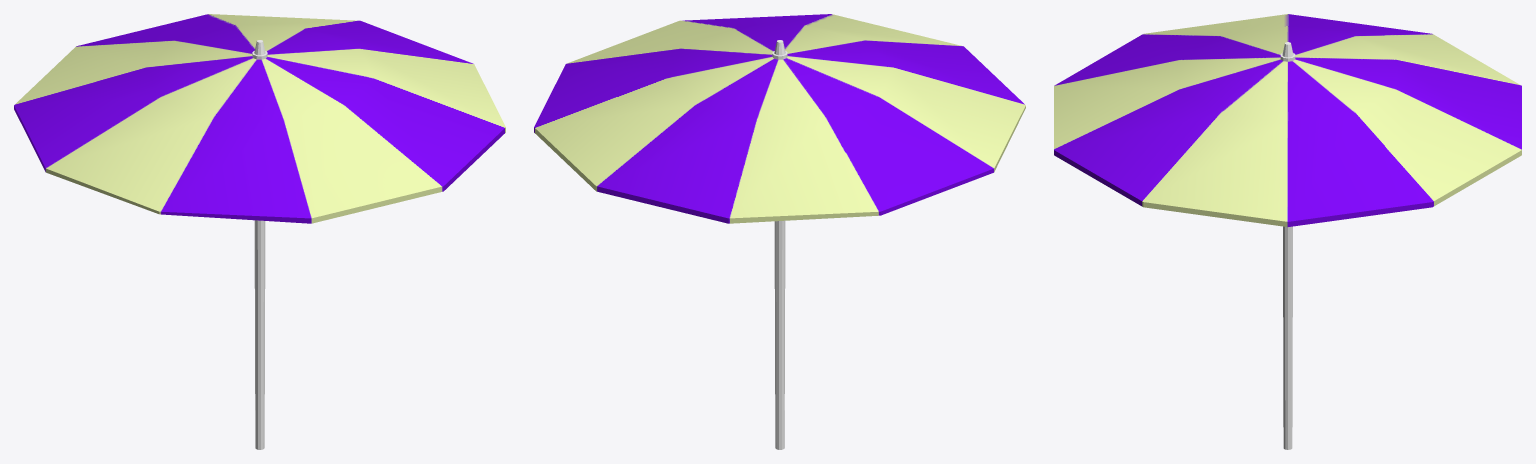
Rendered from Umbrella.fbx.
The picture shows the model from 3 angles, left to right: view 1: azimuth 30°, elevation 25°; view 2: azimuth 150°, elevation 25°; view 3: azimuth 270°, elevation 25°; orthographic projection.
Visible parts, largest first — view 1: pCylinder1; view 2: pCylinder1; view 3: pCylinder1.
Boxes of the visible parts, left/top/right/bottom form: pCylinder1: left=14, top=14, right=505, bottom=449; pCylinder1: left=534, top=14, right=1025, bottom=449; pCylinder1: left=1054, top=14, right=1521, bottom=449.
Bounding box in the file's own units: 6.34 × 5.75 × 6.03.
Materials: 1 (1 with a texture image).
